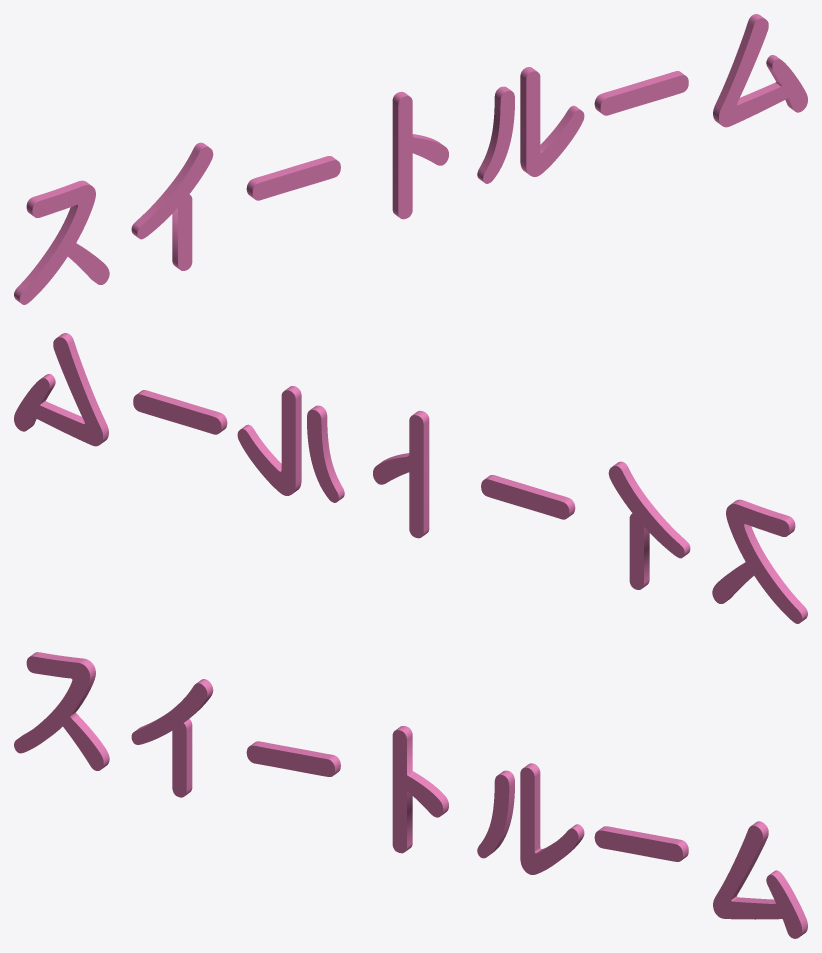
The model's file is title_sweet.fbx.
The picture shows the model from 3 angles, top to bottom: view 1: azimuth 30°, elevation 25°; view 2: azimuth 150°, elevation 25°; view 3: azimuth 330°, elevation 25°; orthographic projection.
Visible parts, largest first — view 1: テキスト; view 2: テキスト; view 3: テキスト.
Boxes of the visible parts, x1=… form: テキスト: x1=14, y1=14, x2=807, y2=304; テキスト: x1=14, y1=333, x2=807, y2=623; テキスト: x1=14, y1=652, x2=807, y2=938.
Size of the model in its own units: 28.18 by 4.19 by 0.36.
